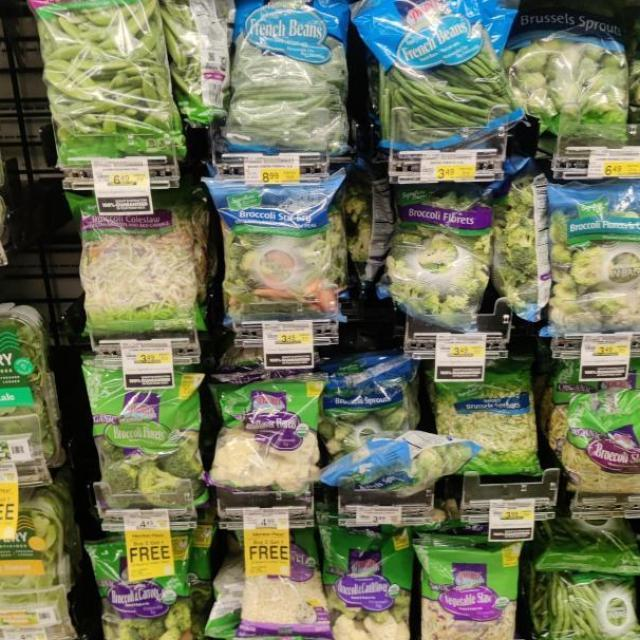Broccoli: (205, 178, 354, 329), (70, 370, 213, 526), (376, 188, 506, 328), (534, 181, 640, 341), (87, 541, 208, 640)
Brussel Sprouts: (511, 7, 640, 150), (328, 371, 452, 501)
Cauliflower: (208, 370, 330, 504), (309, 525, 424, 640)
Salad: (62, 186, 210, 335), (414, 525, 542, 640)
